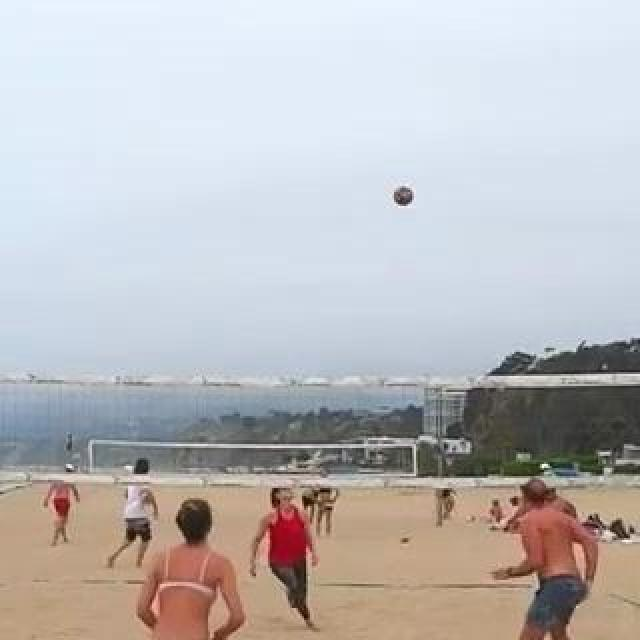volleyball: (393, 185, 413, 207)
